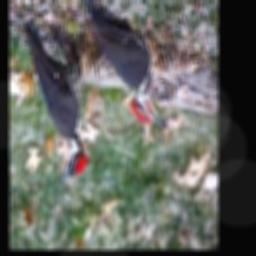Woodpecker: (17, 15, 89, 185), (81, 12, 167, 130)
